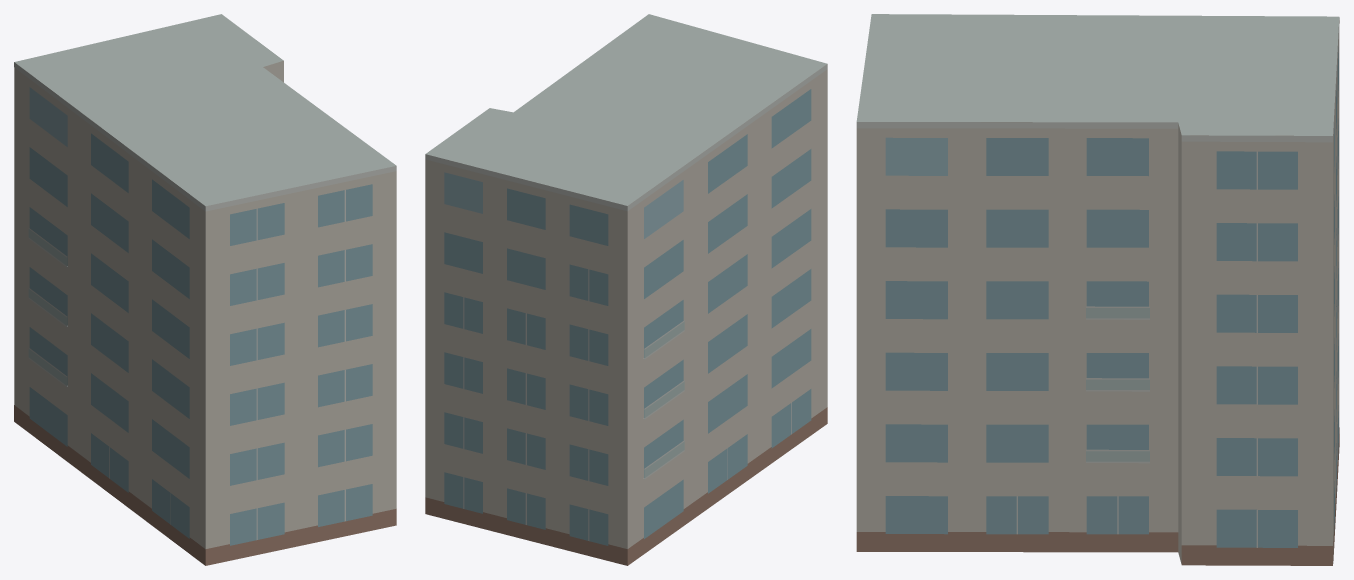
Rendered from survey-upis-32747599.glb.
3 views of the same model, side by side, from view 1: azimuth 30°, elevation 25°; view 2: azimuth 150°, elevation 25°; view 3: azimuth 270°, elevation 25° (orthographic). The views are drawn at different scales.
Parts seen in each view (by area): view 1: survey-upis-32747599.tmp; view 2: survey-upis-32747599.tmp; view 3: survey-upis-32747599.tmp.
Boxes of the visible parts, x1,y1,x2,y2 form: survey-upis-32747599.tmp: [14, 14, 396, 565]; survey-upis-32747599.tmp: [425, 14, 827, 565]; survey-upis-32747599.tmp: [856, 14, 1339, 565].
Bounding box in the file's own units: 10.11 × 16.6 × 16.9.
